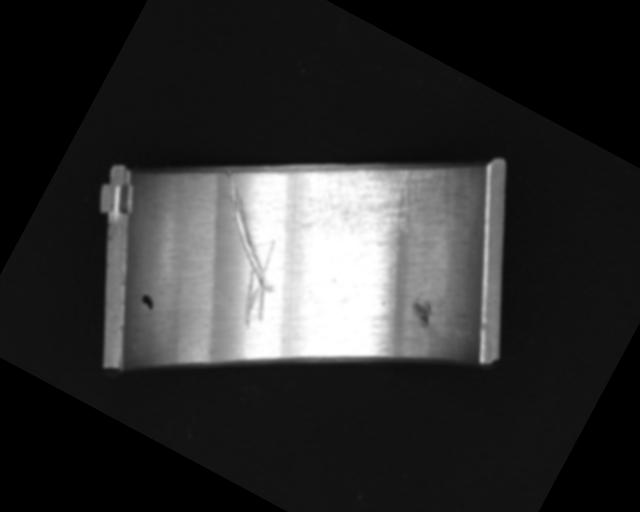blot: (136, 291, 158, 312)
bruise: (406, 295, 440, 329)
nick: (166, 171, 319, 335)
scratch: (312, 126, 451, 261)
